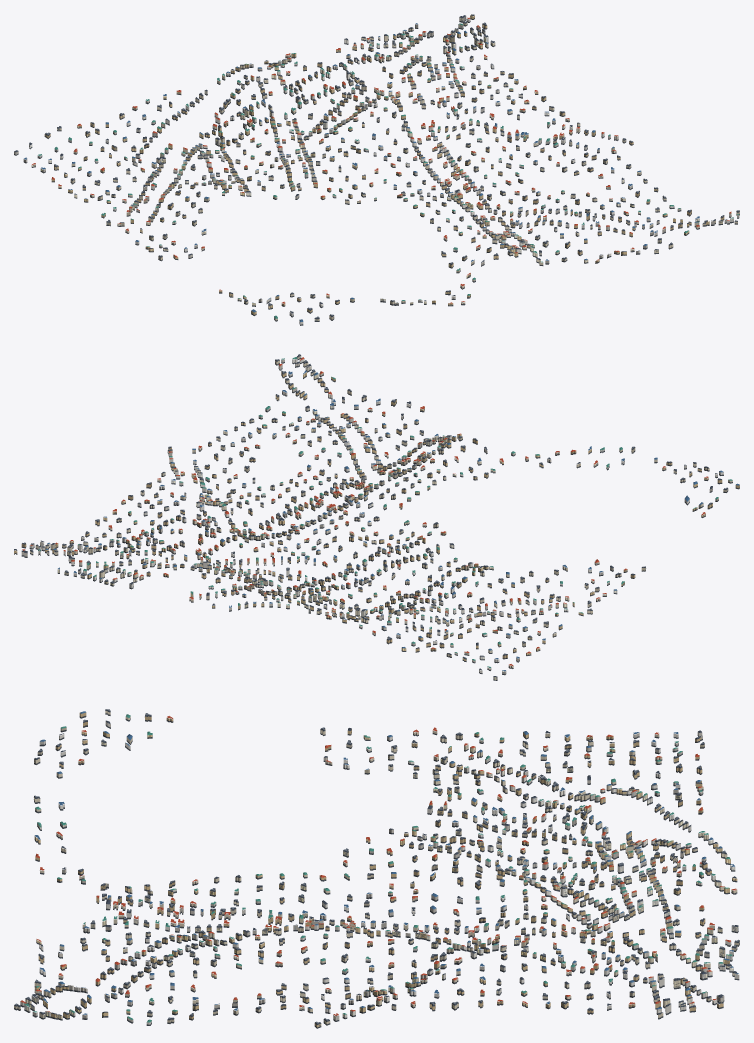
The model's file is osm_buildings_T_W01_S01.glb.
The picture shows the model from 3 angles, top to bottom: view 1: azimuth 30°, elevation 25°; view 2: azimuth 150°, elevation 25°; view 3: azimuth 270°, elevation 25°; orthographic projection. The views are drawn at different scales.
Visible parts, largest first — view 1: OSM_T_W01_S01_foundation, OSM_T_W01_S01_wall_french_ochre, OSM_T_W01_S01_wall_cream_stucco, OSM_T_W01_S01_roof_mansard_slate, OSM_T_W01_S01_wall_warm_white, OSM_T_W01_S01_wall_pastel_sand, OSM_T_W01_S01_roof_terracotta, OSM_T_W01_S01_roof_mansard_deck, OSM_T_W01_S01_roof_mint_metal, OSM_T_W01_S01_roof_alpine_blue; view 2: OSM_T_W01_S01_foundation, OSM_T_W01_S01_wall_french_ochre, OSM_T_W01_S01_wall_cream_stucco, OSM_T_W01_S01_roof_mansard_slate, OSM_T_W01_S01_wall_warm_white, OSM_T_W01_S01_wall_pastel_sand, OSM_T_W01_S01_roof_terracotta, OSM_T_W01_S01_roof_mansard_deck, OSM_T_W01_S01_roof_alpine_blue, OSM_T_W01_S01_roof_mint_metal; view 3: OSM_T_W01_S01_foundation, OSM_T_W01_S01_wall_french_ochre, OSM_T_W01_S01_wall_cream_stucco, OSM_T_W01_S01_roof_mansard_slate, OSM_T_W01_S01_wall_warm_white, OSM_T_W01_S01_wall_pastel_sand, OSM_T_W01_S01_roof_terracotta, OSM_T_W01_S01_roof_mansard_deck, OSM_T_W01_S01_roof_mint_metal, OSM_T_W01_S01_roof_alpine_blue, OSM_T_W01_S01_balcony_railing.
Part boxes in pixels (bbox=[...]): OSM_T_W01_S01_foundation: bbox=[14, 18, 739, 325]; OSM_T_W01_S01_wall_french_ochre: bbox=[44, 15, 724, 314]; OSM_T_W01_S01_wall_cream_stucco: bbox=[31, 22, 739, 320]; OSM_T_W01_S01_roof_mansard_slate: bbox=[14, 14, 739, 318]; OSM_T_W01_S01_wall_warm_white: bbox=[29, 18, 733, 324]; OSM_T_W01_S01_wall_pastel_sand: bbox=[14, 16, 739, 304]; OSM_T_W01_S01_roof_terracotta: bbox=[32, 17, 731, 303]; OSM_T_W01_S01_roof_mansard_deck: bbox=[45, 21, 739, 317]; OSM_T_W01_S01_roof_mint_metal: bbox=[38, 23, 738, 318]; OSM_T_W01_S01_roof_alpine_blue: bbox=[24, 23, 722, 322]; OSM_T_W01_S01_foundation: bbox=[14, 358, 739, 680]; OSM_T_W01_S01_wall_french_ochre: bbox=[14, 372, 739, 660]; OSM_T_W01_S01_wall_cream_stucco: bbox=[30, 356, 732, 667]; OSM_T_W01_S01_roof_mansard_slate: bbox=[14, 354, 727, 677]; OSM_T_W01_S01_wall_warm_white: bbox=[22, 358, 723, 672]; OSM_T_W01_S01_wall_pastel_sand: bbox=[21, 359, 712, 679]; OSM_T_W01_S01_roof_terracotta: bbox=[22, 357, 707, 665]; OSM_T_W01_S01_roof_mansard_deck: bbox=[23, 354, 727, 658]; OSM_T_W01_S01_roof_alpine_blue: bbox=[45, 370, 739, 671]; OSM_T_W01_S01_roof_mint_metal: bbox=[38, 357, 732, 667]; OSM_T_W01_S01_foundation: bbox=[14, 713, 739, 1028]; OSM_T_W01_S01_wall_french_ochre: bbox=[34, 712, 737, 1027]; OSM_T_W01_S01_wall_cream_stucco: bbox=[14, 711, 739, 1023]; OSM_T_W01_S01_roof_mansard_slate: bbox=[14, 709, 739, 1024]; OSM_T_W01_S01_wall_warm_white: bbox=[20, 734, 738, 1024]; OSM_T_W01_S01_wall_pastel_sand: bbox=[29, 721, 739, 1022]; OSM_T_W01_S01_roof_terracotta: bbox=[20, 716, 736, 1015]; OSM_T_W01_S01_roof_mansard_deck: bbox=[15, 709, 738, 1023]; OSM_T_W01_S01_roof_mint_metal: bbox=[25, 714, 732, 1022]; OSM_T_W01_S01_roof_alpine_blue: bbox=[35, 711, 738, 1014]; OSM_T_W01_S01_balcony_railing: bbox=[34, 734, 739, 1025].
Size of the model in its own units: 1931 by 157 by 1979.
